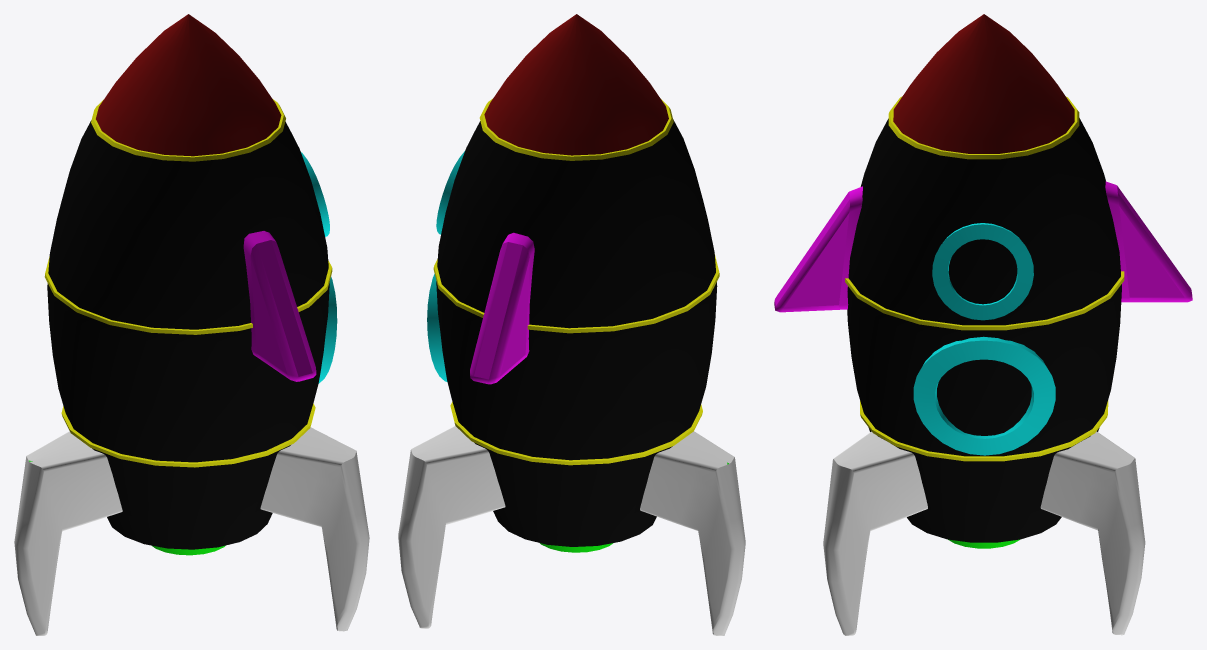
Rendered from Rocketv2.fbx.
The picture shows the model from 3 angles, left to right: view 1: azimuth 30°, elevation 25°; view 2: azimuth 150°, elevation 25°; view 3: azimuth 270°, elevation 25°; orthographic projection.
Parts seen in each view (by area): view 1: Wing_left.002; view 2: Wing_left.002; view 3: Wing_left.002.
Part boxes in pixels (x1,y1,x2,y2): Wing_left.002: (14,14,369,635); Wing_left.002: (398,14,745,635); Wing_left.002: (774,14,1192,635).
Bounding box in the file's own units: 218 × 411 × 269.
